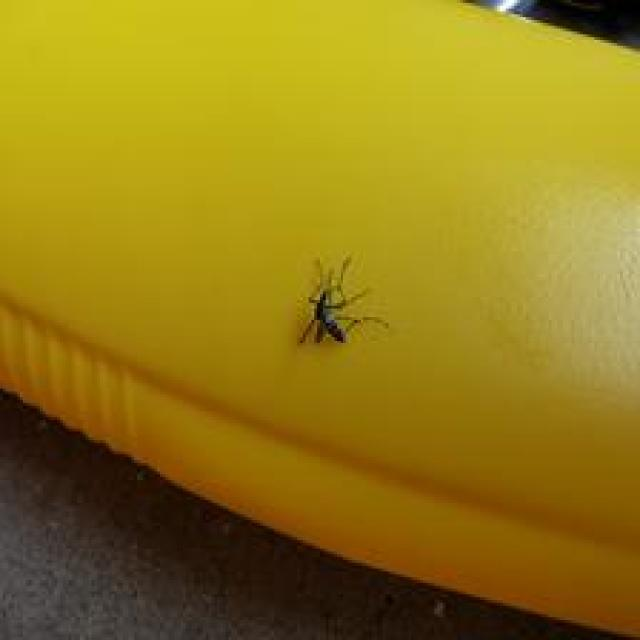Aedes albopictus: (296, 253, 387, 347)
